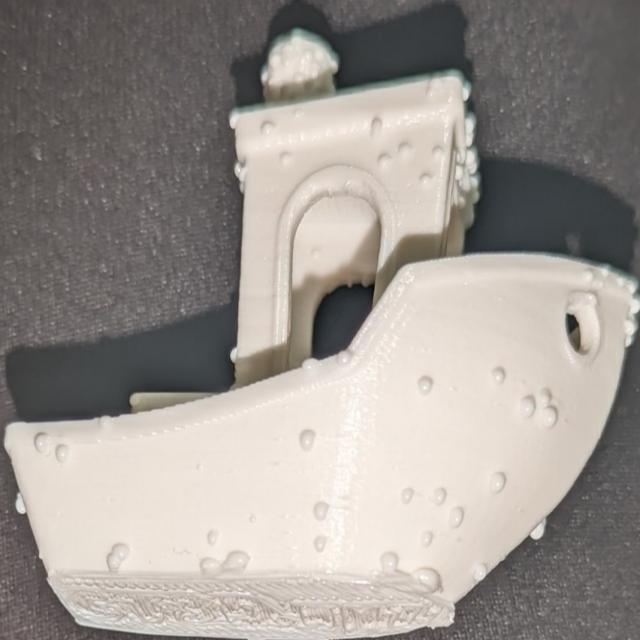zits: (98, 539, 131, 574), (227, 157, 254, 191), (534, 404, 566, 432), (418, 562, 446, 594), (524, 516, 552, 548), (485, 462, 510, 496), (222, 544, 250, 574), (514, 388, 540, 420), (412, 364, 439, 394), (293, 424, 320, 454), (199, 544, 224, 576), (395, 474, 418, 506), (534, 377, 558, 407), (458, 110, 478, 146), (488, 359, 511, 389), (254, 113, 280, 139), (272, 140, 296, 168), (374, 548, 401, 572), (370, 110, 392, 139), (412, 169, 437, 194), (298, 350, 322, 376), (418, 524, 442, 549), (31, 426, 54, 452), (333, 350, 356, 376), (10, 489, 32, 516), (312, 499, 334, 526), (448, 504, 470, 530), (396, 140, 418, 166), (374, 144, 394, 172), (426, 482, 449, 506), (226, 104, 246, 128), (431, 142, 452, 164), (456, 75, 473, 101), (54, 442, 74, 464), (314, 528, 332, 552), (200, 523, 220, 544), (581, 264, 597, 289), (466, 152, 483, 174), (474, 562, 494, 580), (628, 293, 640, 318)
